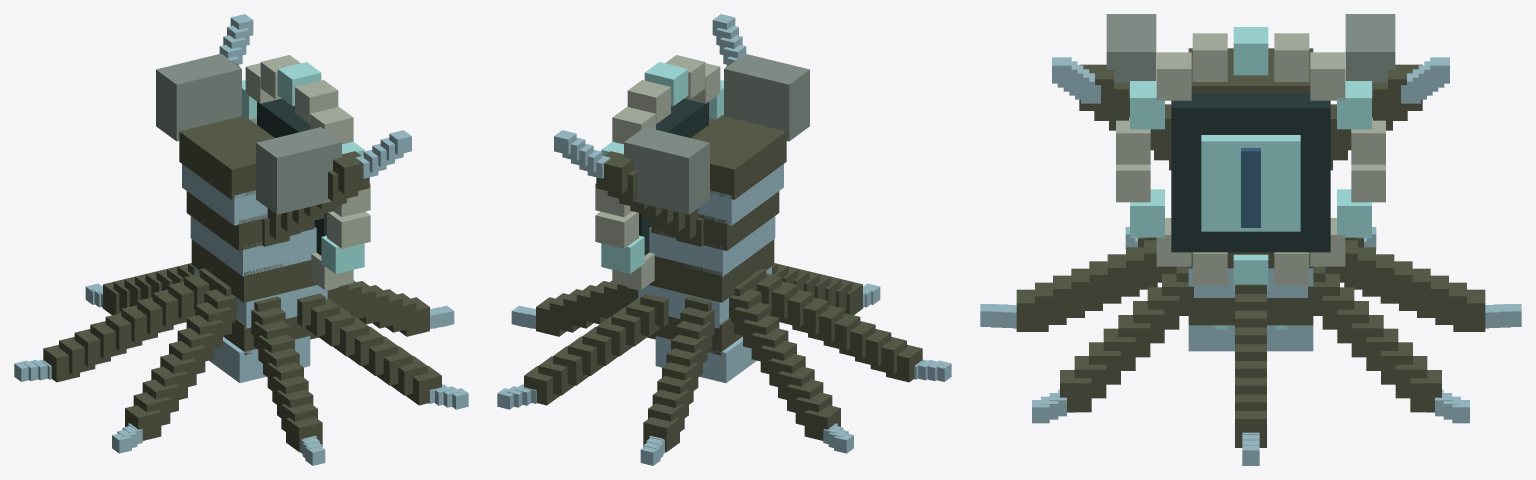
Rendered from moon-eye.glb.
3 renders of one model, left to right at view 1: azimuth 30°, elevation 25°; view 2: azimuth 150°, elevation 25°; view 3: azimuth 270°, elevation 25°, orthographic. The views are drawn at different scales.
Visible parts, largest first — view 1: RootLimbs, Trunk, MissilePods, IrisRing, RootTips, BranchArms, BranchFingers, EyeSocket; view 2: RootLimbs, Trunk, MissilePods, IrisRing, RootTips, BranchArms, BranchFingers, EyeSocket; view 3: RootLimbs, IrisRing, EyeSocket, Trunk, BlueIris, MissilePods, BranchArms, RootTips, BranchFingers, VerticalPupil.
Part boxes in pixels (x1,y1,x2,y2): RootLimbs: (43, 263, 441, 452); Trunk: (179, 115, 327, 382); MissilePods: (156, 53, 341, 214); IrisRing: (242, 55, 370, 290); RootTips: (14, 283, 468, 465); BranchArms: (232, 61, 369, 246); BranchFingers: (219, 14, 411, 178); EyeSocket: (257, 98, 326, 255); RootLimbs: (524, 263, 922, 452); Trunk: (638, 115, 786, 382); MissilePods: (624, 53, 809, 214); IrisRing: (595, 55, 723, 290); RootTips: (497, 283, 951, 465); BranchArms: (596, 61, 733, 246); BranchFingers: (554, 14, 746, 178); EyeSocket: (639, 98, 708, 255); RootLimbs: (1016, 237, 1485, 447); IrisRing: (1116, 27, 1385, 291); EyeSocket: (1171, 93, 1330, 252); Trunk: (1188, 48, 1313, 351); BlueIris: (1201, 135, 1300, 231); MissilePods: (1106, 14, 1395, 95); BranchArms: (1079, 64, 1422, 170); RootTips: (980, 227, 1521, 465); BranchFingers: (1052, 57, 1449, 103); VerticalPupil: (1241, 148, 1260, 227).
Size of the model in its own units: 10.62 by 7.6 by 10.88.
